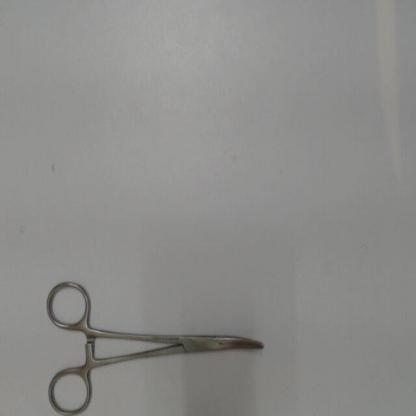Crile Artery Forceps: (45, 268, 273, 416)
